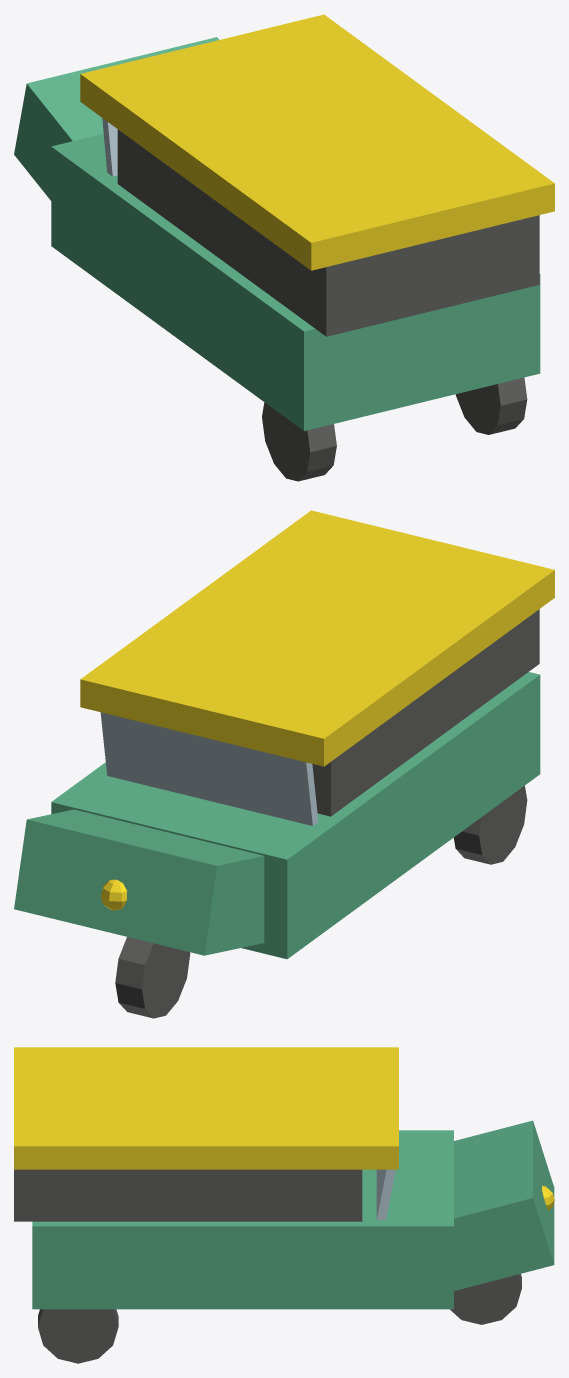
The model's file is rickshaw.glb.
3 views of the same model, one above another, from view 1: azimuth 30°, elevation 25°; view 2: azimuth 150°, elevation 25°; view 3: azimuth 270°, elevation 25° (orthographic). The views are drawn at different scales.
Parts seen in each view (by area): view 1: rickshaw; view 2: rickshaw; view 3: rickshaw.
Part boxes in pixels (x1,y1,x2,y2): rickshaw: (14, 14, 554, 481); rickshaw: (14, 510, 554, 1018); rickshaw: (14, 1047, 554, 1363).
Bounding box in the file's own units: 1.28 × 1.34 × 2.95.
